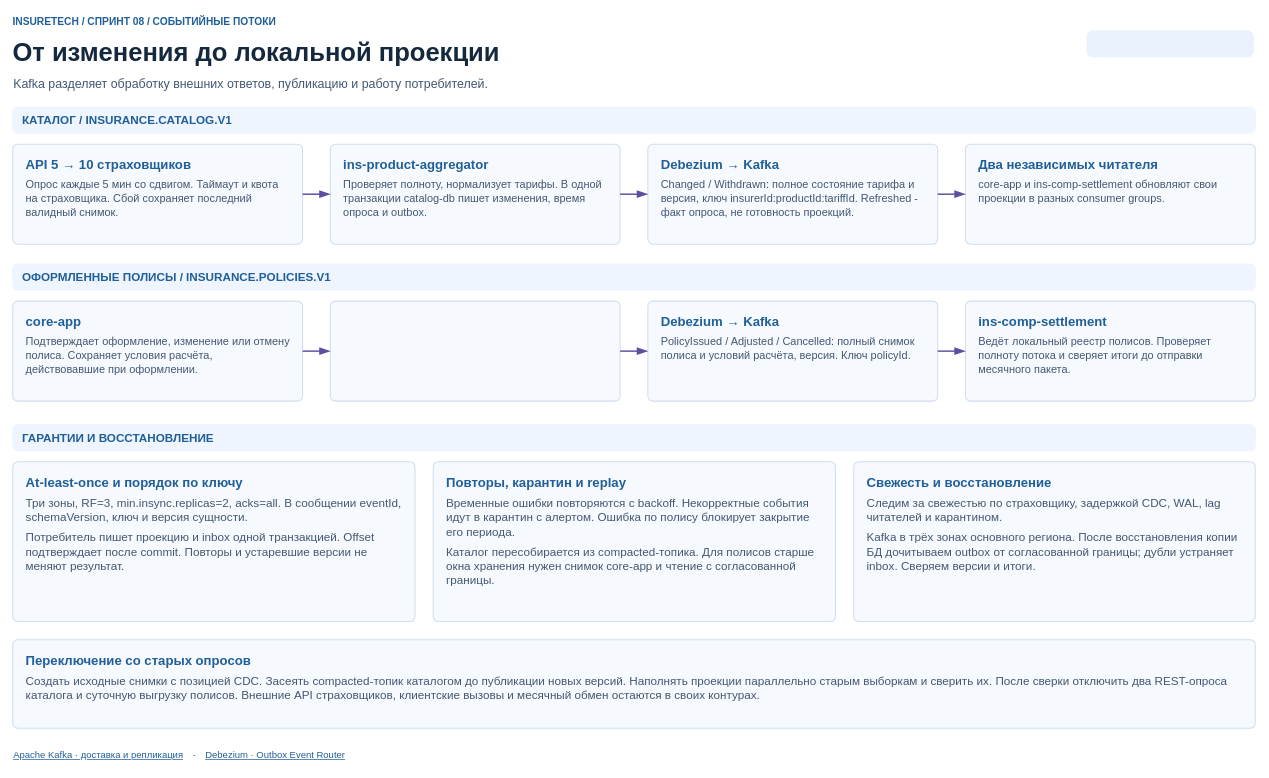
Image size: 1269x778. Some labels were removed from this diagram. The centre of each missing label's shape, as x and y in pixels:
"core-db + outbox Сохраняет бизнес-запись и событие одной транзакцией." belongs at (x=474, y=350).
"КОНТРАКТЫ / ДОСТАВКА" belongs at (x=1169, y=43).
